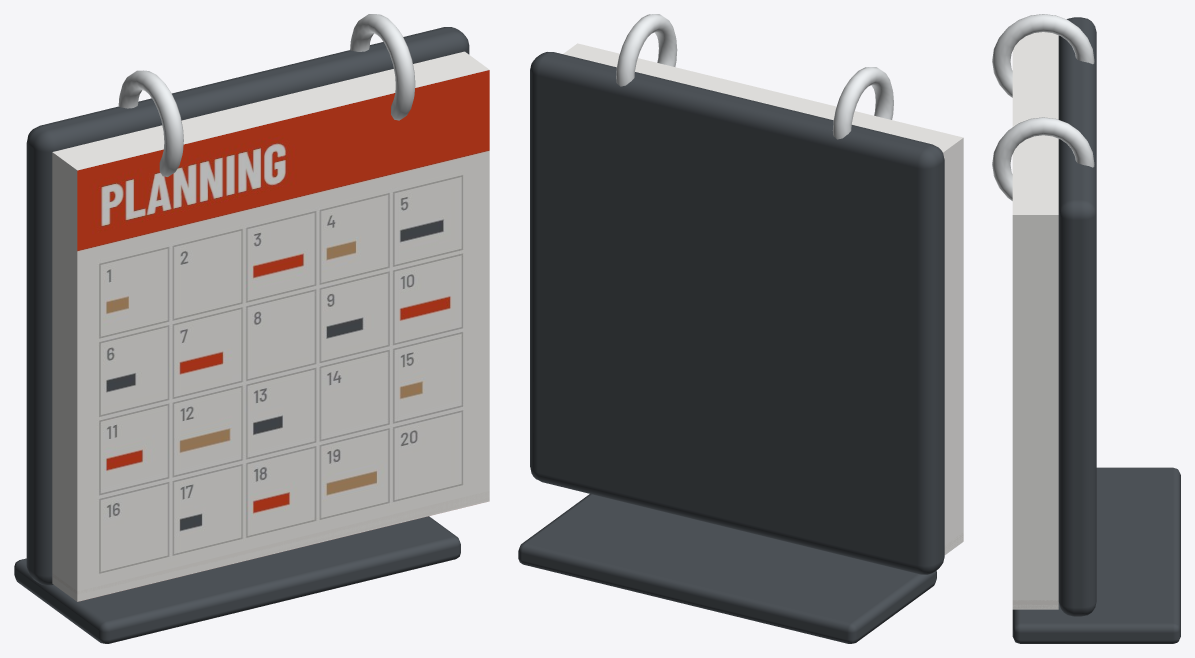
File: calendrier.glb
3 views of the same model, side by side, from view 1: azimuth 30°, elevation 25°; view 2: azimuth 150°, elevation 25°; view 3: azimuth 270°, elevation 25° (orthographic). The views are drawn at different scales.
Visible parts, largest first — view 1: page, dos, papier, anneau (×2), tranche (×3); view 2: dos, papier, anneau (×2); view 3: dos, papier, anneau (×2).
Boxes of the visible parts, left/top/right/bottom form: page: left=77, top=70, right=489, bottom=601; dos: left=14, top=27, right=469, bottom=643; papier: left=52, top=51, right=489, bottom=601; anneau (×2): left=118, top=14, right=415, bottom=176; tranche (×3): left=52, top=491, right=489, bottom=595; dos: left=518, top=52, right=944, bottom=643; papier: left=563, top=43, right=963, bottom=554; anneau (×2): left=616, top=14, right=893, bottom=139; dos: left=1012, top=17, right=1180, bottom=643; papier: left=1012, top=32, right=1058, bottom=609; anneau (×2): left=992, top=14, right=1094, bottom=200.
Bounding box in the file's own units: 0.6 × 0.722 × 0.247.
Materials: 8 (1 with a texture image).
